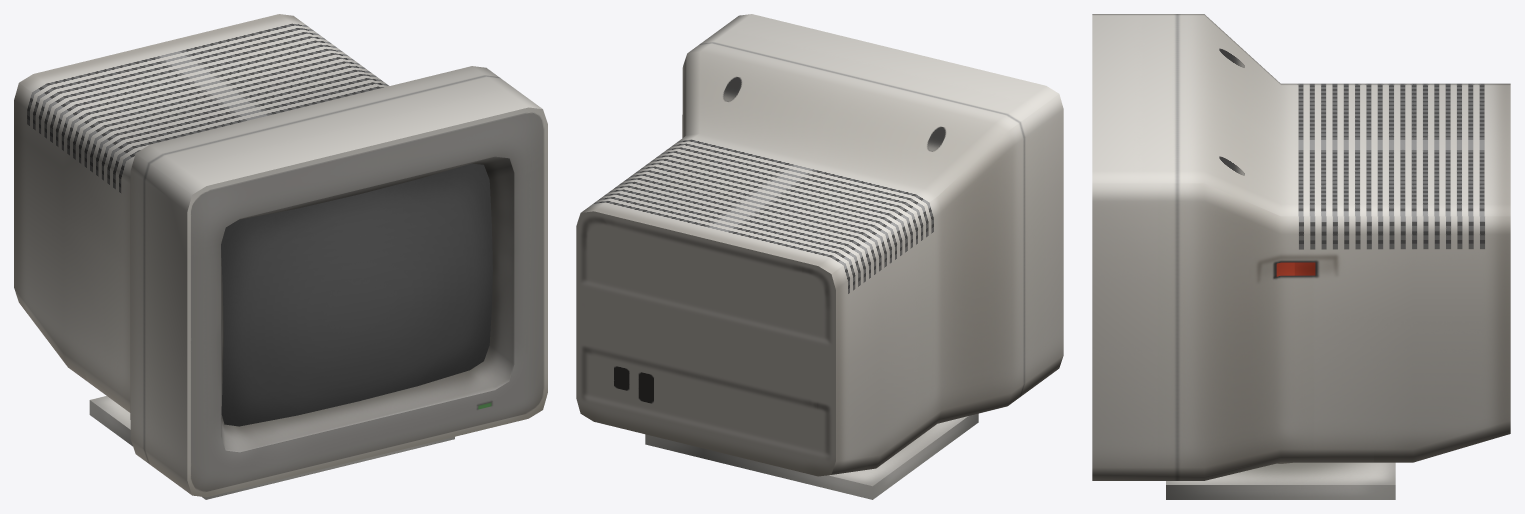
The model's file is px2_monitor.FBX.
The picture shows the model from 3 angles, left to right: view 1: azimuth 30°, elevation 25°; view 2: azimuth 150°, elevation 25°; view 3: azimuth 270°, elevation 25°; orthographic projection. The views are drawn at different scales.
Visible parts, largest first — view 1: PX2_Monitor, PX2_Monitor_Screen; view 2: PX2_Monitor; view 3: PX2_Monitor.
Part boxes in pixels (left/top/right/bottom): PX2_Monitor: left=14, top=14, right=547, bottom=499; PX2_Monitor_Screen: left=221, top=163, right=492, bottom=426; PX2_Monitor: left=576, top=14, right=1063, bottom=499; PX2_Monitor: left=1092, top=14, right=1510, bottom=499.
Bounding box in the file's own units: 0.3764 × 0.3494 × 0.3824.
